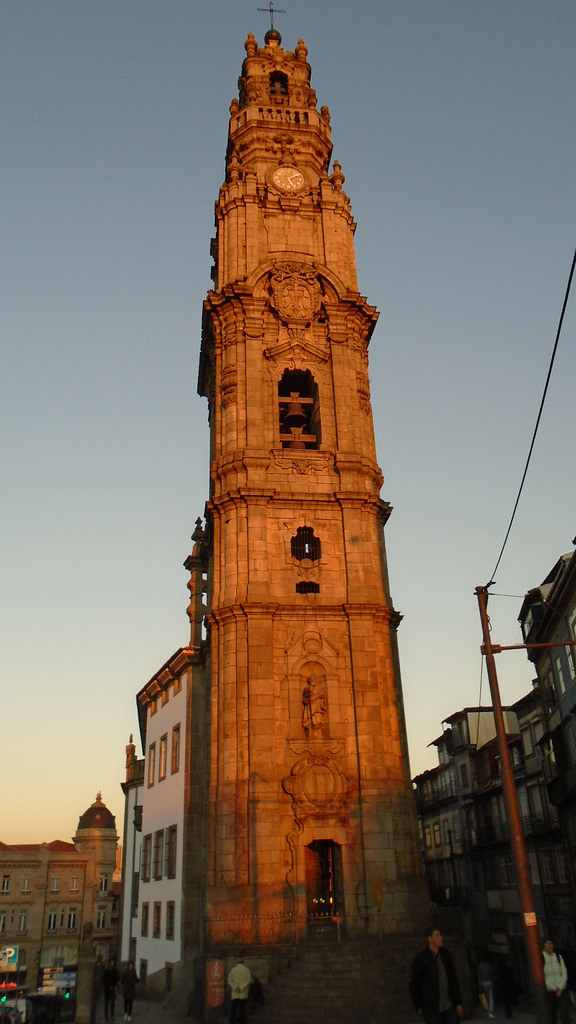clerigos: (194, 0, 435, 948)
